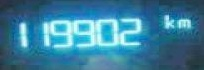0: (95, 16, 117, 47)
1: (10, 15, 29, 51), (39, 16, 49, 52)
2: (119, 13, 140, 51)
9: (72, 17, 93, 48), (49, 17, 70, 48)
X: (160, 11, 174, 28), (177, 17, 190, 28)
